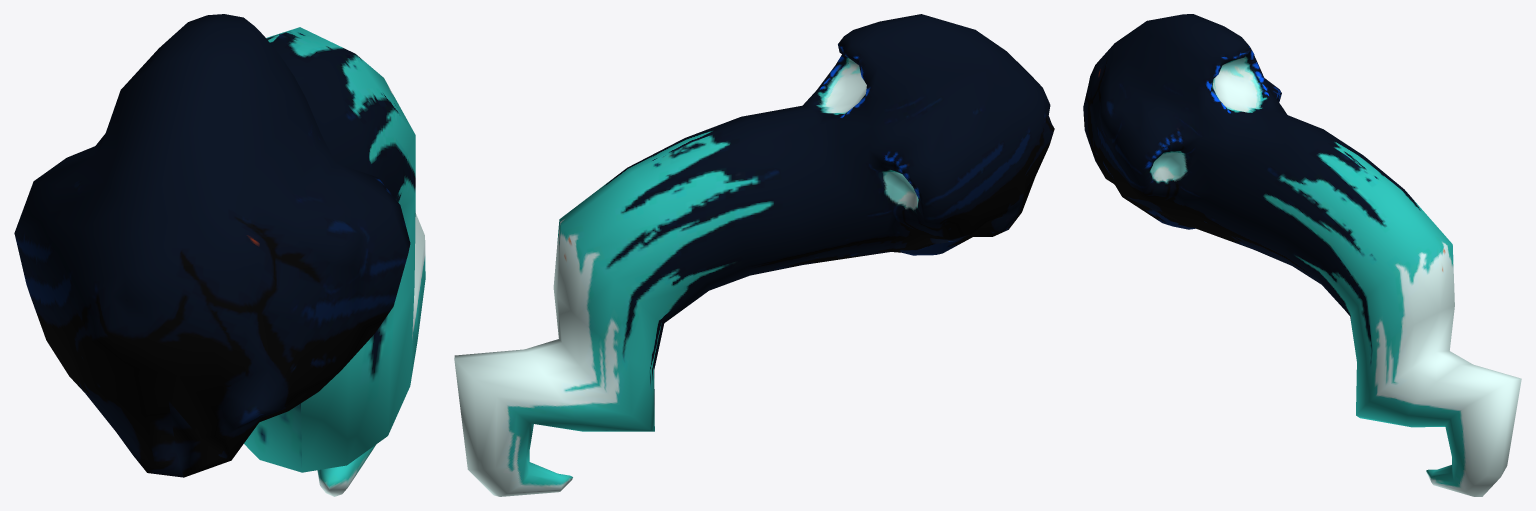
Rendered from LightningStrike.fbx.
3 views of the same model, side by side, from view 1: azimuth 30°, elevation 25°; view 2: azimuth 150°, elevation 25°; view 3: azimuth 270°, elevation 25° (orthographic). The views are drawn at different scales.
Parts seen in each view (by area): view 1: PickupLightningStrikeOnHit; view 2: PickupLightningStrikeOnHit; view 3: PickupLightningStrikeOnHit.
Boxes of the visible parts, x1,y1,x2,y2 form: PickupLightningStrikeOnHit: (14, 14, 425, 496); PickupLightningStrikeOnHit: (454, 14, 1054, 496); PickupLightningStrikeOnHit: (1083, 14, 1521, 496).
Bounding box in the file's own units: 2.43 × 2.53 × 2.67.
Materials: 1 (1 with a texture image).
